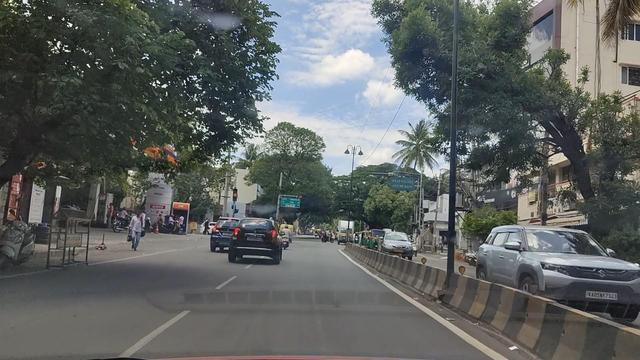LMV: (202, 222, 284, 269)
